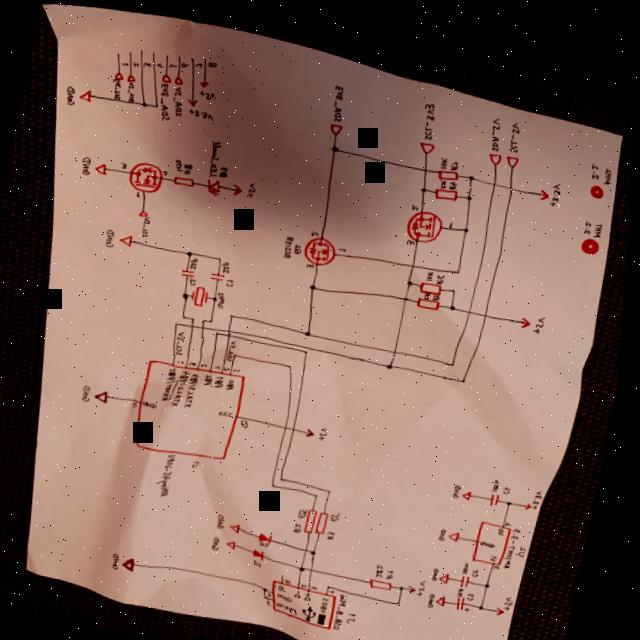capacitor: (463, 587, 482, 604), (183, 264, 200, 275), (213, 267, 230, 278), (495, 484, 507, 498), (468, 566, 478, 580)
crossover: (485, 304, 495, 312), (423, 159, 432, 167), (509, 177, 518, 184), (295, 420, 303, 427), (288, 419, 295, 426), (193, 319, 200, 326), (406, 288, 413, 295), (204, 321, 211, 327), (413, 256, 420, 262), (494, 173, 500, 179), (316, 561, 323, 566), (396, 342, 402, 347), (471, 301, 477, 306), (231, 324, 237, 329), (311, 542, 317, 547), (230, 329, 237, 333)
diode: (207, 174, 226, 193), (259, 543, 273, 556), (265, 527, 280, 539)
ground: (129, 552, 145, 569), (122, 229, 137, 246), (99, 386, 116, 401), (80, 85, 95, 102), (454, 521, 468, 534), (236, 517, 249, 529), (443, 586, 455, 599), (468, 481, 479, 493), (446, 564, 457, 576), (232, 535, 245, 545)
junction: (331, 139, 343, 148), (490, 573, 500, 581), (390, 356, 399, 364), (308, 324, 317, 332), (469, 166, 478, 174), (313, 278, 322, 286), (453, 279, 462, 287), (467, 187, 477, 194), (452, 296, 460, 304), (406, 577, 414, 585), (409, 273, 418, 280), (422, 180, 431, 187), (457, 261, 466, 268), (512, 491, 521, 498), (306, 343, 316, 349), (465, 219, 473, 226), (486, 595, 494, 602), (232, 308, 240, 315), (453, 353, 461, 360), (186, 289, 194, 296), (464, 370, 473, 376), (190, 247, 197, 254), (285, 471, 292, 478), (276, 477, 284, 483), (142, 99, 150, 105), (306, 560, 313, 566), (320, 487, 327, 493), (403, 593, 410, 599), (270, 581, 276, 587), (318, 544, 324, 549), (334, 483, 340, 488), (293, 359, 299, 364), (178, 318, 184, 323), (155, 101, 161, 106), (216, 292, 222, 297), (219, 327, 225, 332), (237, 348, 243, 353), (186, 311, 191, 316), (195, 313, 200, 318), (213, 315, 218, 320), (334, 578, 339, 583), (221, 253, 225, 257), (206, 315, 210, 319), (271, 590, 275, 594)
resistor: (436, 179, 462, 195), (311, 502, 326, 528), (423, 273, 447, 289), (375, 571, 402, 585), (420, 289, 445, 304), (322, 504, 337, 529), (439, 160, 462, 175), (175, 171, 199, 185)
source: (95, 159, 112, 174), (524, 307, 537, 321), (233, 179, 246, 192), (310, 421, 322, 433), (541, 181, 553, 192), (187, 94, 200, 104), (503, 598, 515, 608), (200, 75, 211, 85), (414, 577, 426, 586), (530, 493, 539, 501)
terminal: (505, 146, 522, 161), (420, 134, 438, 148), (489, 144, 505, 158), (331, 117, 345, 130), (115, 69, 127, 79), (174, 73, 186, 83), (127, 72, 138, 81), (163, 71, 174, 80), (141, 207, 153, 215), (191, 53, 195, 58), (204, 54, 208, 58), (141, 46, 145, 50), (166, 51, 170, 54), (153, 48, 157, 51), (118, 50, 122, 53), (179, 52, 182, 54), (130, 49, 133, 51)
text: (161, 447, 186, 496), (155, 78, 178, 120), (419, 94, 441, 134), (329, 78, 350, 118), (510, 518, 529, 562), (176, 365, 195, 405), (208, 136, 227, 174), (488, 108, 507, 144), (166, 363, 184, 399), (340, 587, 357, 625), (508, 113, 526, 146), (189, 368, 205, 405), (171, 82, 189, 114), (188, 104, 218, 118), (551, 172, 567, 198), (64, 83, 81, 106), (110, 74, 126, 98), (283, 596, 308, 610), (179, 326, 192, 352), (106, 225, 122, 246), (536, 305, 552, 326), (285, 230, 299, 254), (126, 78, 140, 101), (603, 156, 618, 176), (537, 480, 551, 501), (230, 335, 242, 359), (82, 154, 96, 174), (85, 381, 99, 401), (143, 213, 155, 236), (222, 508, 235, 526), (248, 176, 261, 194), (219, 287, 232, 305), (423, 571, 436, 589), (591, 152, 604, 170), (117, 550, 130, 567), (200, 86, 219, 97), (323, 420, 336, 436), (218, 531, 230, 548), (511, 586, 523, 603), (327, 590, 338, 608), (147, 396, 164, 407), (223, 256, 236, 270), (218, 371, 231, 385), (283, 588, 303, 597), (595, 213, 607, 228), (382, 556, 393, 572), (223, 406, 240, 416), (336, 504, 349, 517), (184, 159, 197, 172), (175, 155, 187, 169), (497, 469, 508, 484), (458, 476, 469, 491), (435, 585, 445, 601), (354, 605, 366, 618), (230, 374, 241, 388), (209, 369, 220, 383), (192, 253, 203, 267), (441, 149, 452, 163), (524, 535, 535, 549), (486, 531, 503, 540), (586, 210, 596, 225), (439, 558, 448, 574), (299, 515, 310, 528), (296, 237, 307, 250), (451, 152, 462, 164), (221, 162, 232, 174), (305, 501, 315, 514), (445, 520, 455, 533), (469, 553, 478, 567), (508, 476, 519, 487), (333, 524, 344, 535), (245, 415, 257, 425), (428, 263, 438, 275), (408, 231, 420, 240), (439, 266, 448, 278), (441, 171, 450, 183), (207, 57, 220, 65), (265, 535, 278, 543), (503, 518, 513, 528), (301, 583, 311, 593), (479, 559, 488, 570), (393, 562, 402, 573), (229, 274, 238, 284), (312, 586, 321, 596), (413, 196, 423, 205), (197, 455, 206, 465), (435, 285, 445, 294), (451, 173, 460, 183), (259, 555, 271, 562), (474, 584, 483, 593), (137, 397, 145, 407), (195, 58, 205, 66), (465, 579, 472, 590), (497, 546, 506, 554), (193, 274, 201, 283), (427, 284, 435, 293), (314, 224, 323, 232), (169, 59, 178, 67), (133, 58, 142, 66), (181, 58, 191, 65), (273, 594, 281, 602), (122, 160, 131, 167), (285, 579, 294, 586), (450, 212, 457, 221), (144, 59, 153, 66), (137, 188, 145, 195), (274, 586, 282, 593), (512, 512, 520, 519), (193, 357, 202, 363), (291, 573, 300, 579), (237, 363, 246, 369), (341, 242, 351, 247), (181, 356, 189, 362), (164, 167, 172, 173), (156, 59, 164, 65), (318, 580, 327, 585), (219, 360, 226, 366), (337, 583, 344, 589), (310, 258, 318, 263), (122, 59, 130, 64), (501, 556, 507, 562), (310, 577, 316, 583), (206, 359, 213, 364), (229, 362, 235, 367)
transistor: (406, 200, 448, 239), (129, 157, 169, 193), (304, 228, 342, 263)
